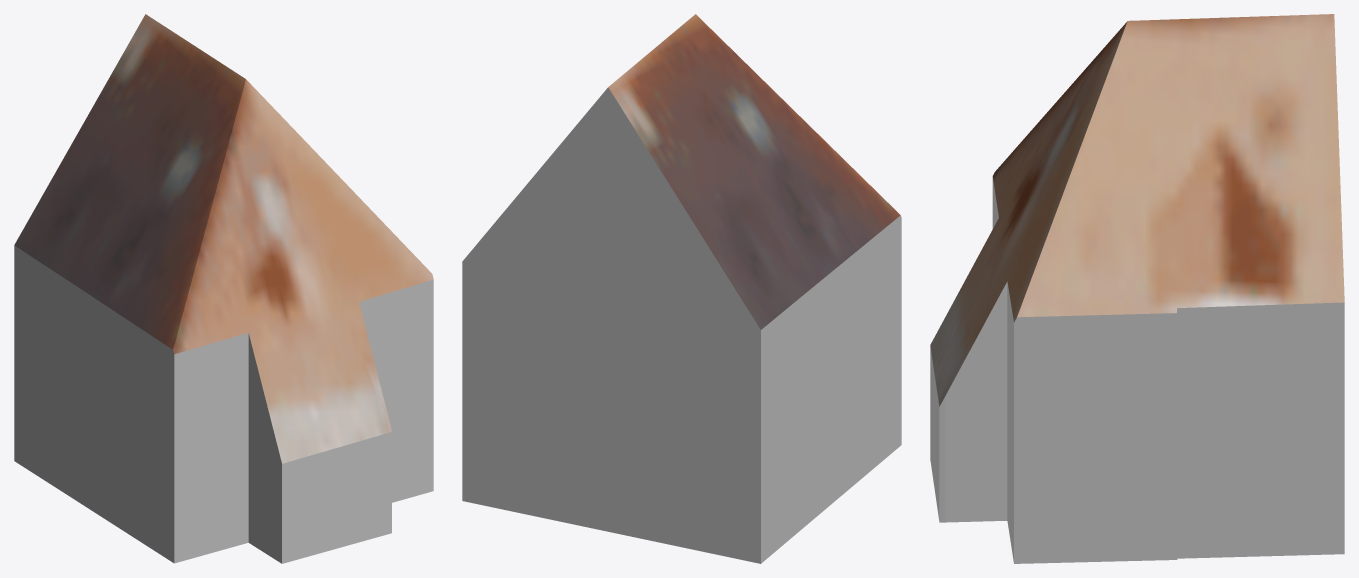
Rendered from DEBW_0010007Txcq.gltf.
3 renders of one model, left to right at view 1: azimuth 30°, elevation 25°; view 2: azimuth 150°, elevation 25°; view 3: azimuth 270°, elevation 25°, orthographic. The views are drawn at different scales.
Visible parts, largest first — view 1: Z_UP; view 2: Z_UP; view 3: Z_UP.
Boxes of the visible parts, left/top/right/bottom form: Z_UP: left=14, top=14, right=433, bottom=563; Z_UP: left=462, top=14, right=901, bottom=563; Z_UP: left=930, top=14, right=1344, bottom=563.
Size of the model in its own units: 10.17 by 14.05 by 11.28.
Materials: 2 (1 with a texture image).
